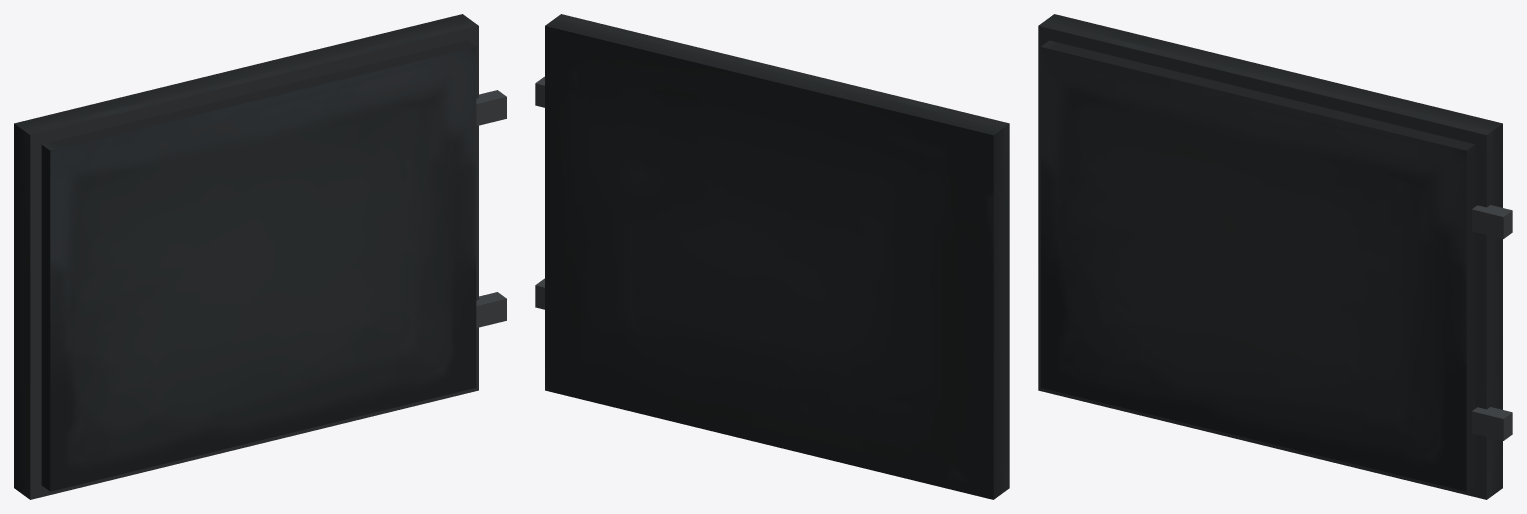
Rendered from prop_kamiina_Luukku01.gltf.
3 views of the same model, side by side, from view 1: azimuth 30°, elevation 25°; view 2: azimuth 150°, elevation 25°; view 3: azimuth 330°, elevation 25° (orthographic).
Parts seen in each view (by area): view 1: kamiina_luukku1; view 2: kamiina_luukku1; view 3: kamiina_luukku1.
Part boxes in pixels (x1=…): kamiina_luukku1: x1=14, y1=14, x2=506, y2=499; kamiina_luukku1: x1=535, y1=14, x2=1009, y2=499; kamiina_luukku1: x1=1038, y1=14, x2=1512, y2=499.
Bounding box in the file's own units: 2.77 × 2.05 × 0.2537.
1 material, 1 textured.
